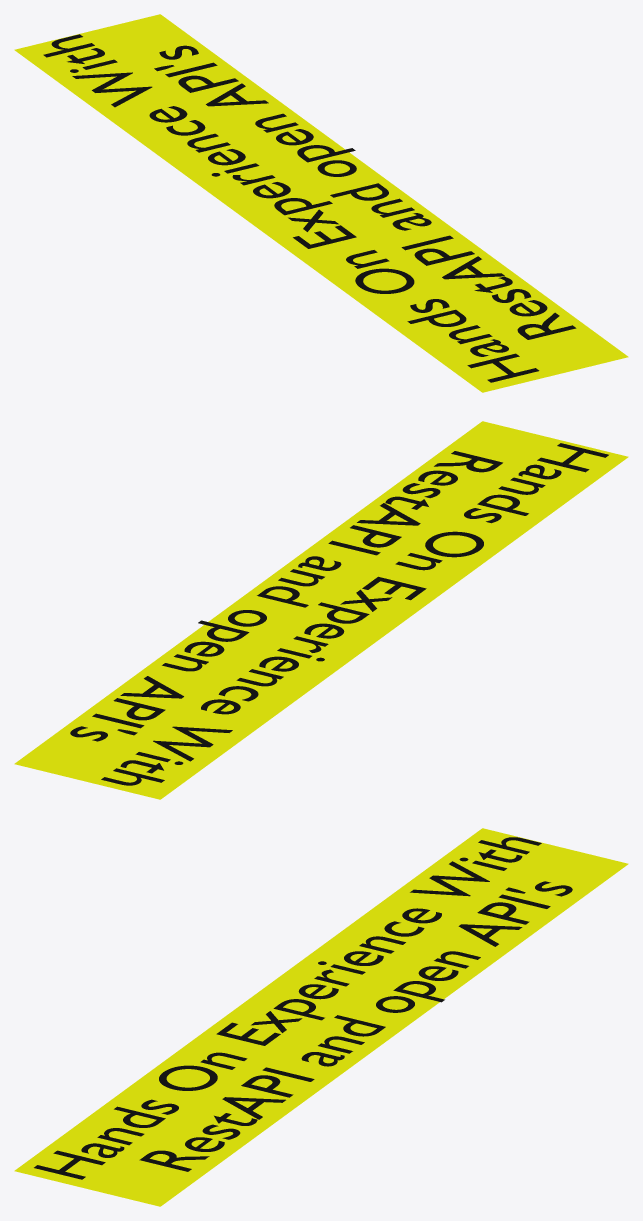
Rendered from API.glb.
3 views of the same model, one above another, from view 1: azimuth 30°, elevation 25°; view 2: azimuth 150°, elevation 25°; view 3: azimuth 330°, elevation 25° (orthographic).
Parts seen in each view (by area): view 1: Plane, Text; view 2: Plane, Text; view 3: Plane, Text.
Boxes of the visible parts, left/top/right/bottom form: Plane: left=14, top=14, right=628, bottom=392; Text: left=43, top=34, right=576, bottom=382; Plane: left=14, top=421, right=628, bottom=799; Text: left=70, top=443, right=608, bottom=785; Plane: left=14, top=828, right=628, bottom=1206; Text: left=34, top=837, right=572, bottom=1179.
Bounding box in the file's own units: 2.11 × 0.0345 × 11.36.
